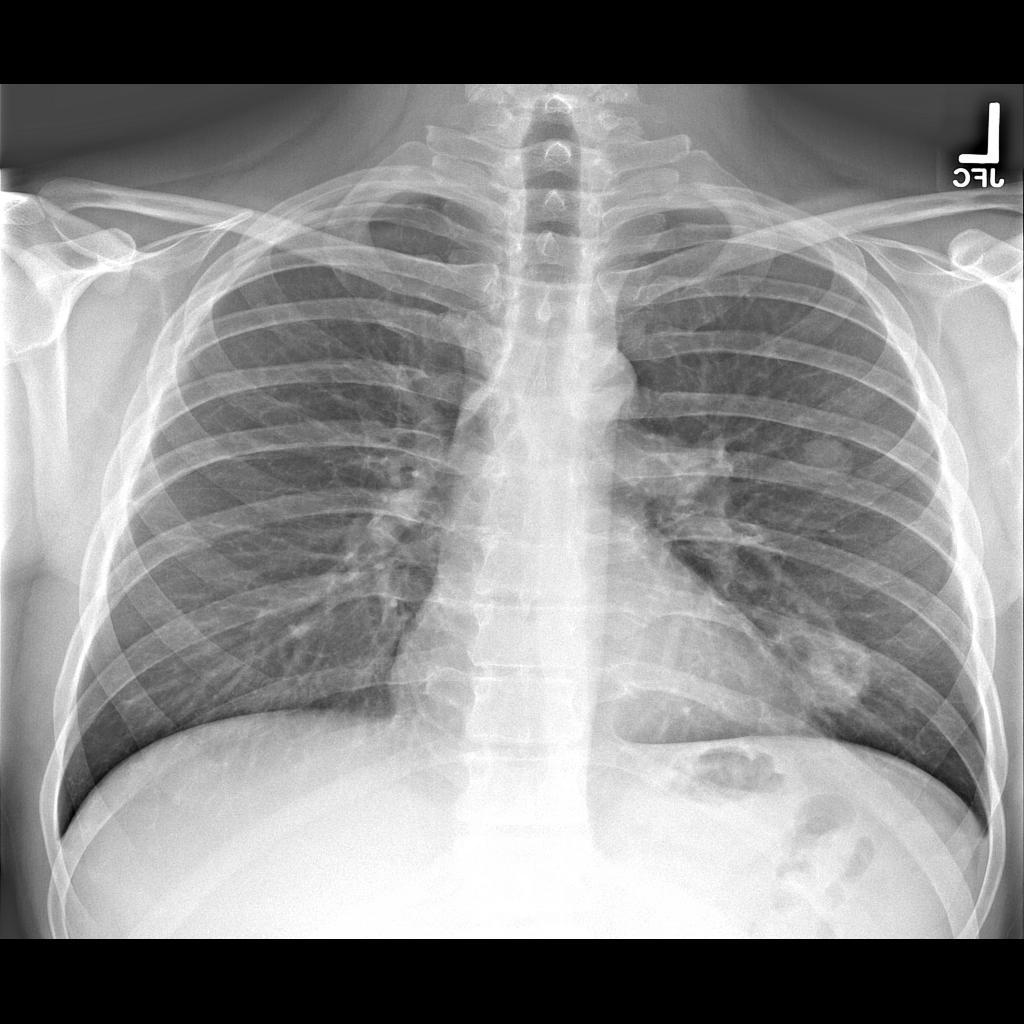Nodule: (767, 616, 874, 714), (787, 433, 863, 488)
